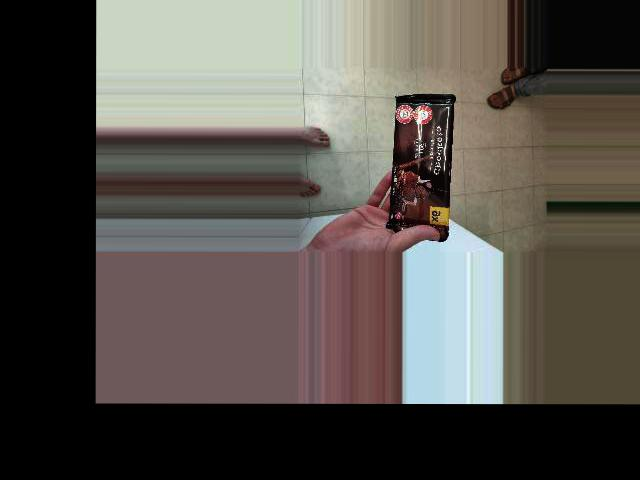chocolate: (368, 86, 526, 169)
